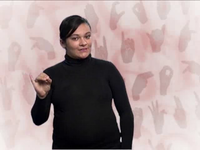oi: (24, 69, 54, 102)
